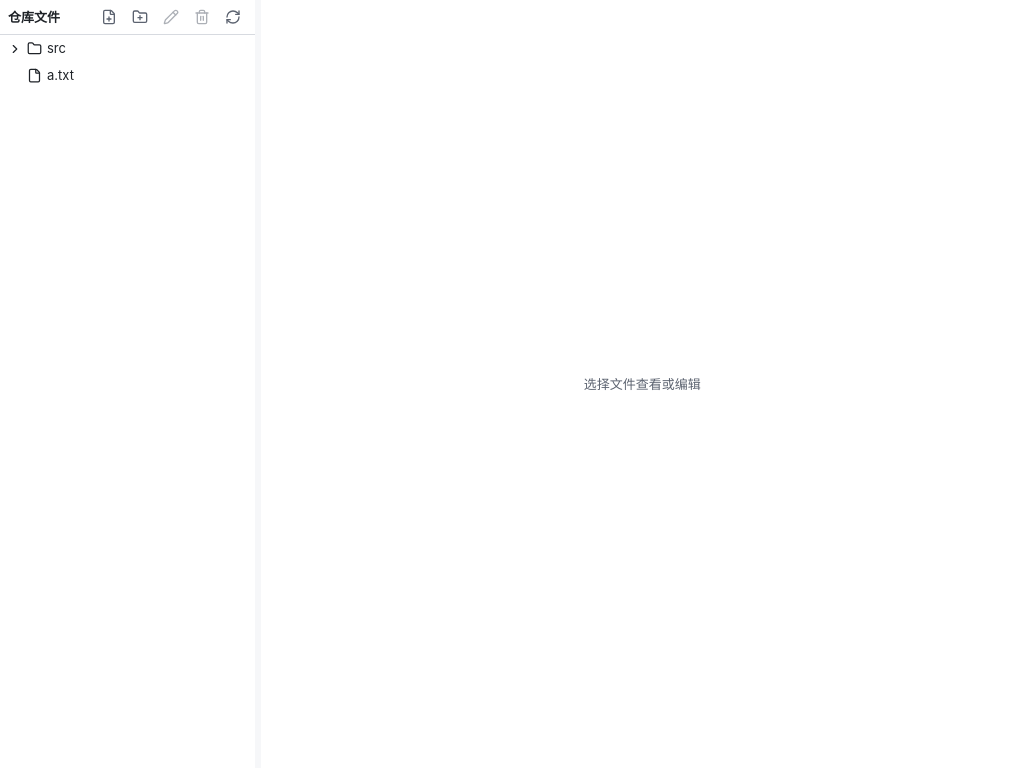
Test case: requires confirmation and warns before deleting unsaved edits
Later steps or results of the test are not shown.
Click the list item "a.txt" at (127, 76), box x1=0 y1=62 x2=254 y2=89
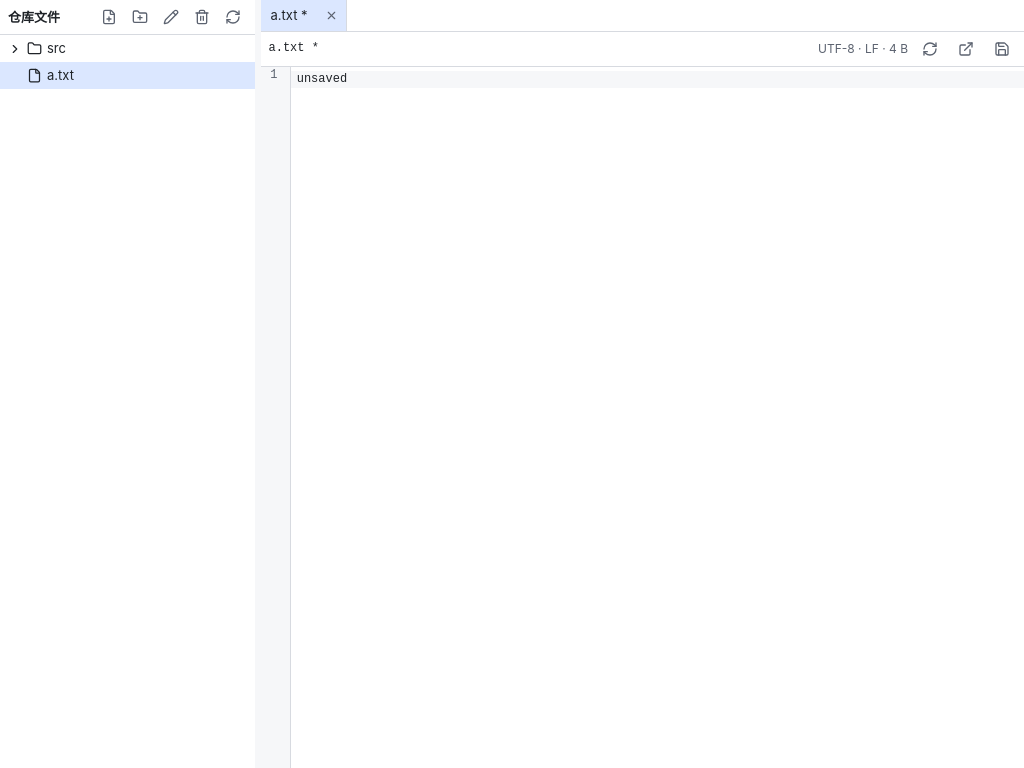
Click the button named "删除" at (202, 17), box x1=188 y1=3 x2=216 y2=31
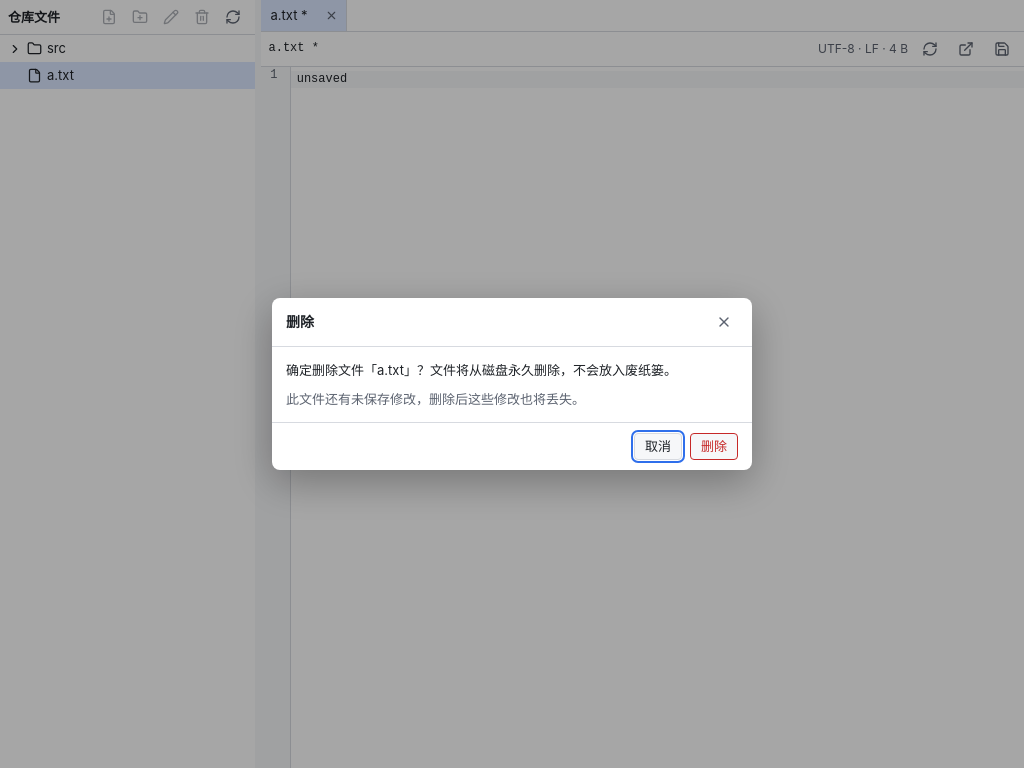
Check: the text "此文件还有未保存修改，删除后这些修改也将丢失。" is shown, box x1=286 y1=391 x2=585 y2=407
Click the button "取消" at (658, 447), box x1=634 y1=433 x2=682 y2=460
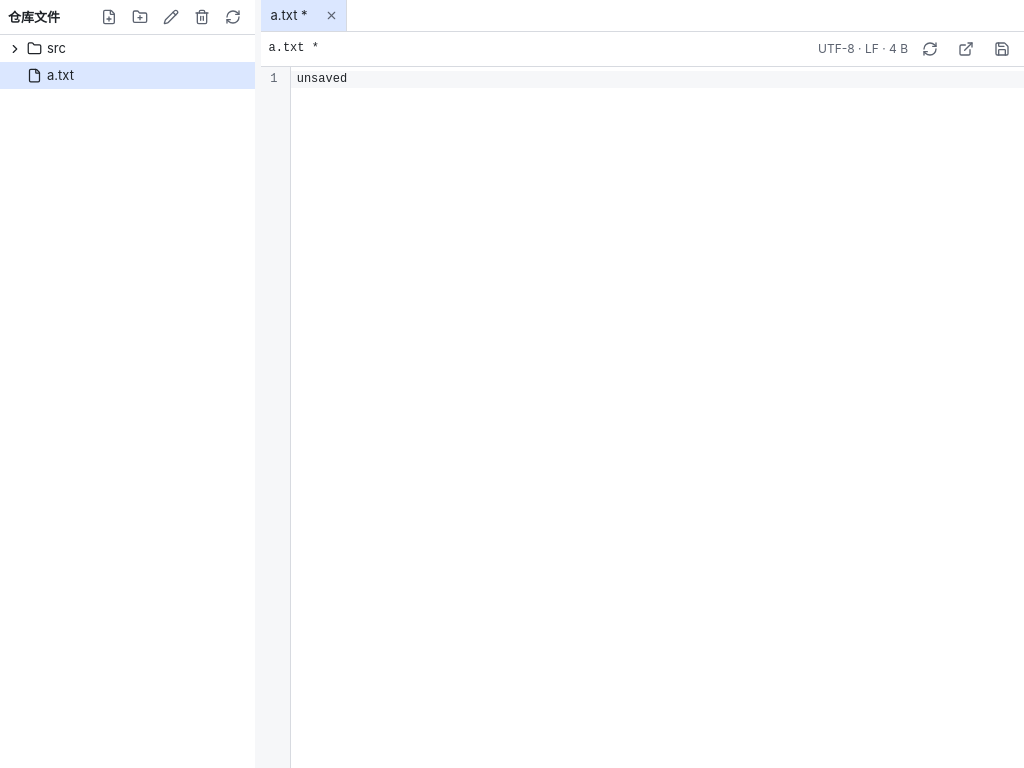
Check: the button named "删除" is enabled, box x1=188 y1=3 x2=216 y2=31
